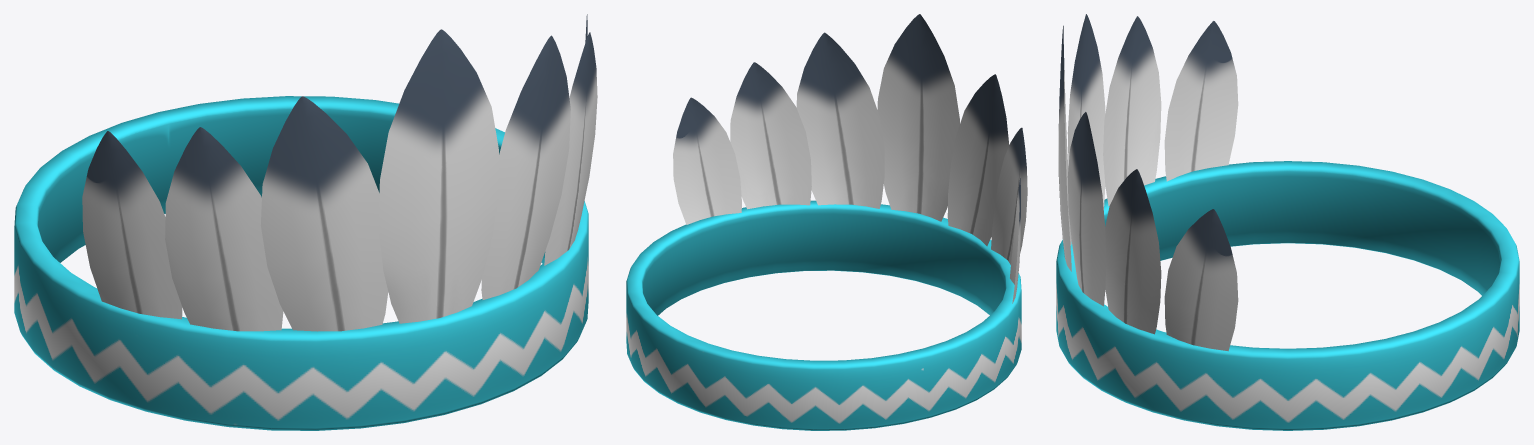
File: FeatherCrown.fbx
3 views of the same model, side by side, from view 1: azimuth 30°, elevation 25°; view 2: azimuth 150°, elevation 25°; view 3: azimuth 270°, elevation 25° (orthographic). The views are drawn at different scales.
Parts seen in each view (by area): view 1: Feather Crown; view 2: Feather Crown; view 3: Feather Crown.
Boxes of the visible parts, <box> form: Feather Crown: <box>14,14,597,430</box>; Feather Crown: <box>626,14,1027,430</box>; Feather Crown: <box>1056,14,1519,430</box>.
Size of the model in its own units: 43.18 by 31.55 by 42.88.
